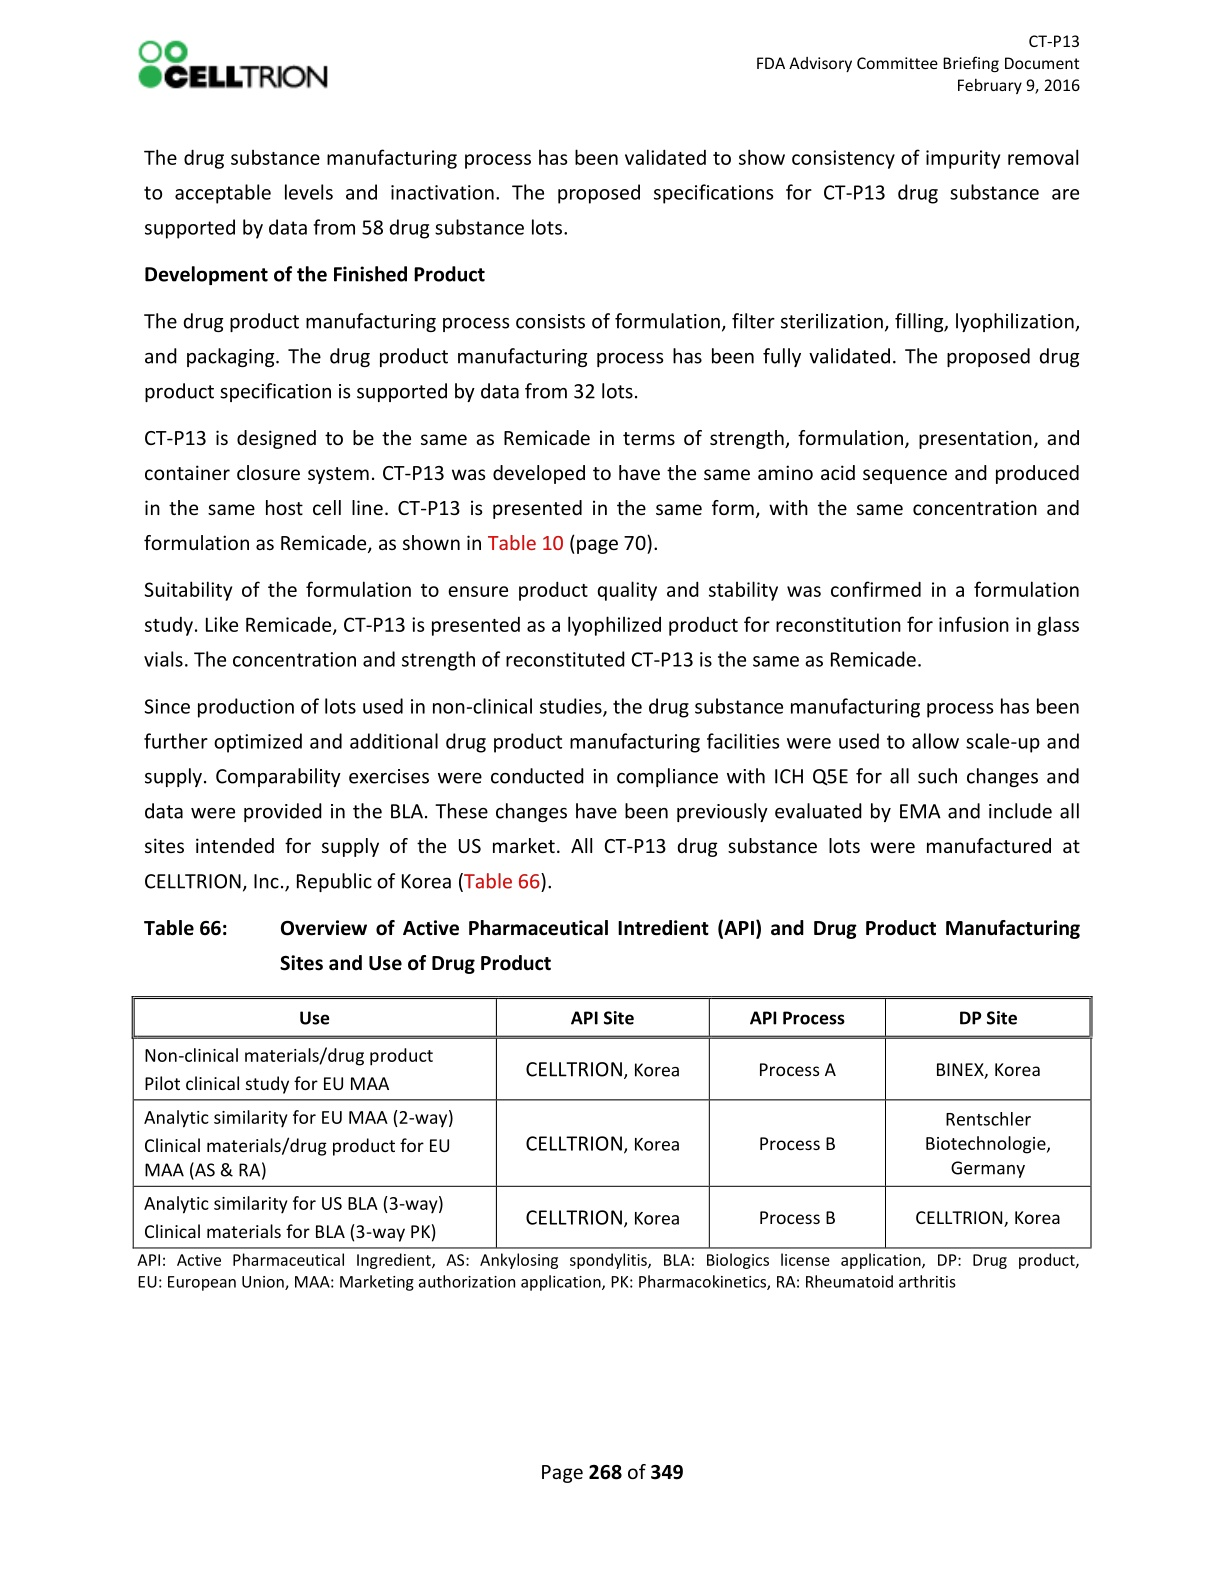full_lined: (131, 996, 1093, 1250)
